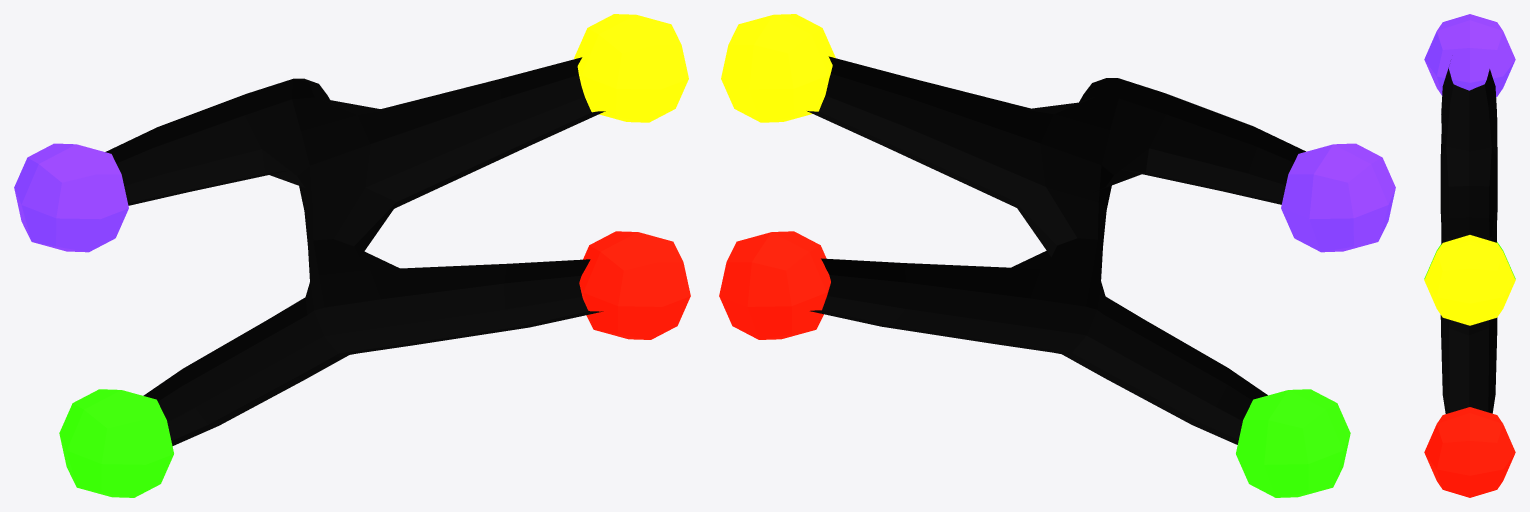
Rendered from Art Piece 1.gltf.
3 views of the same model, side by side, from view 1: azimuth 30°, elevation 25°; view 2: azimuth 150°, elevation 25°; view 3: azimuth 270°, elevation 25° (orthographic). The views are drawn at different scales.
Parts seen in each view (by area): view 1: Cube.001; view 2: Cube.001; view 3: Cube.001.
Part boxes in pixels (box(x1,y1,x2,y2)): Cube.001: box(14, 14, 690, 497); Cube.001: box(719, 14, 1395, 497); Cube.001: box(1424, 14, 1515, 497).
Size of the model in its own units: 5.57 by 2.99 by 0.847.
